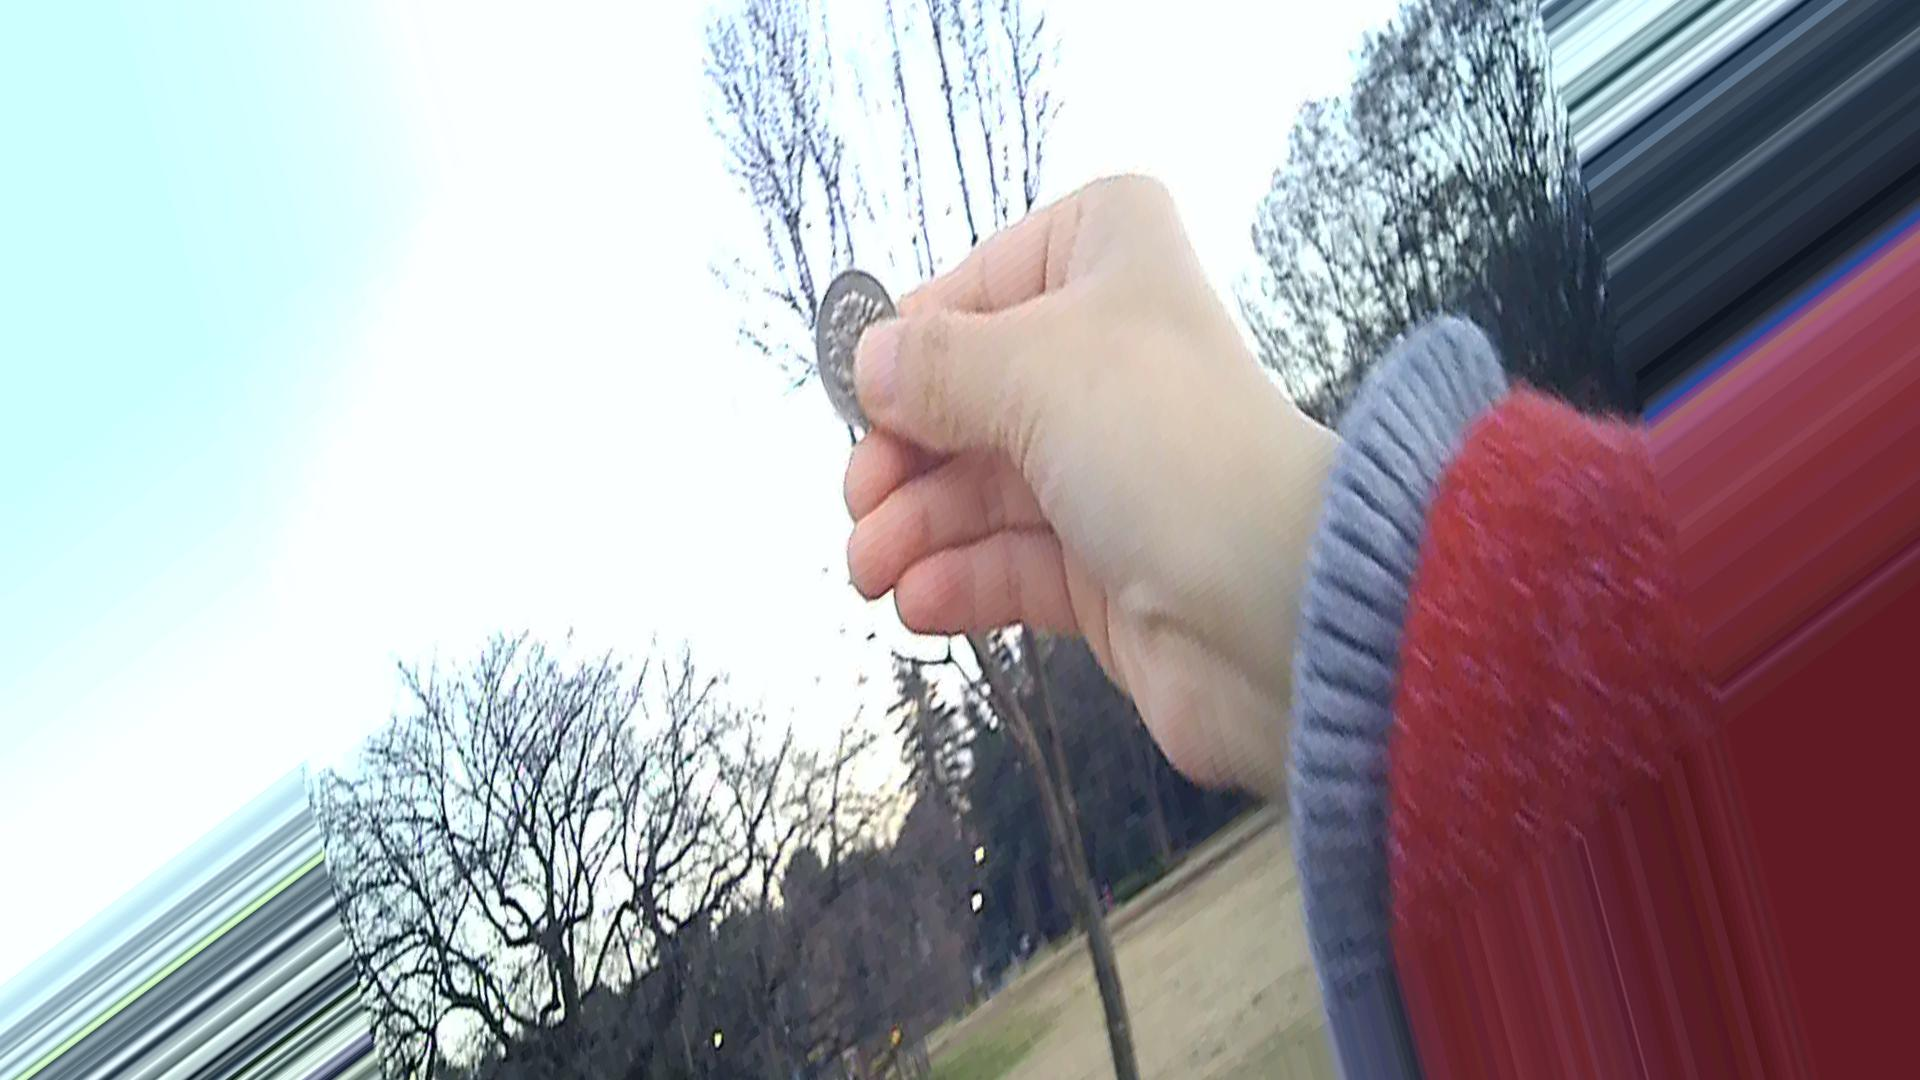100 Yen: (796, 257, 923, 414)
